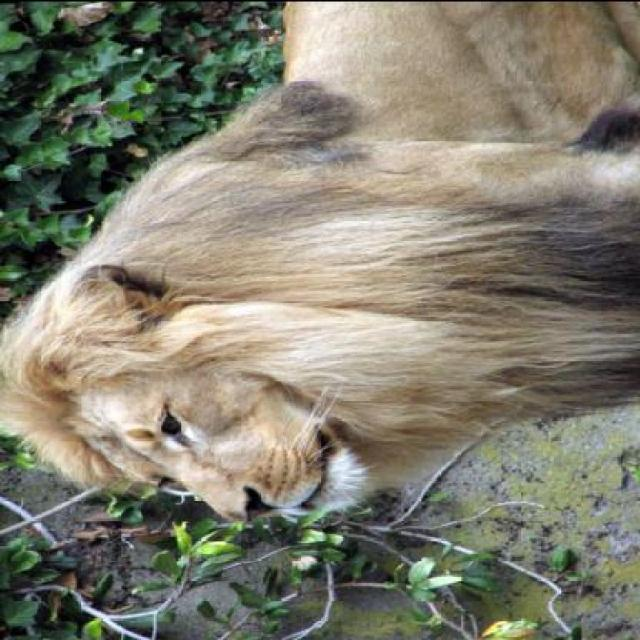Lion: (3, 0, 639, 549)
